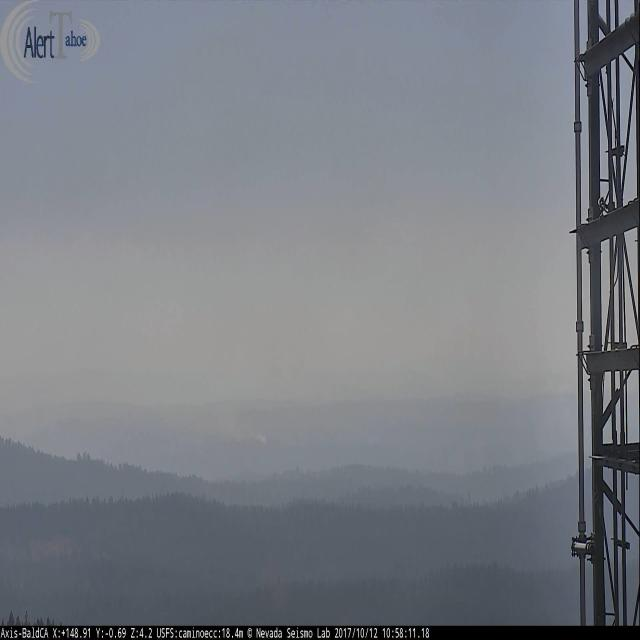smoke: (232, 418, 266, 445)
